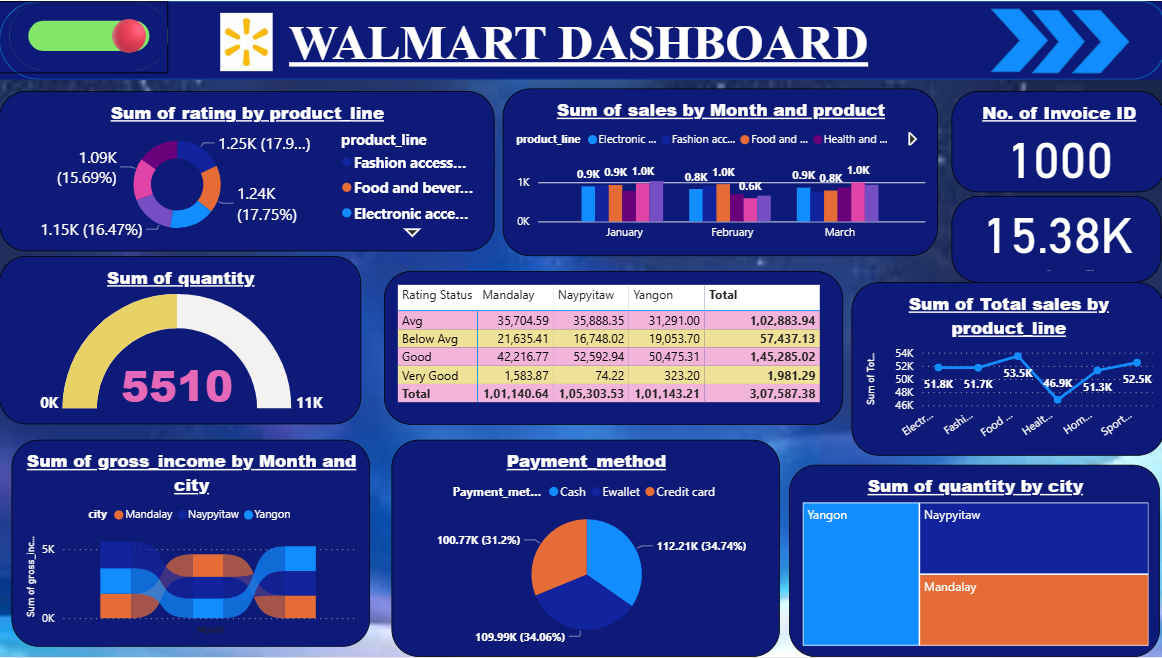

The page's visual inventory and layout, read from the dashboard file:
{"tool":"powerbi","page":{"name":"Page 1","canvas":[1280,720],"ordinal":0},"visuals":[{"type":"card","title":"No. of Invoice ID","fields":{"Values":["CountNonNull(WalmartSQL repository.invoice_id)"]},"box":[1045,98.8,235,111.2],"z":0},{"type":"card","fields":{"Values":["WalmartSQL repository.total profit"]},"box":[1045,213.8,230,95],"z":1000},{"type":"shape","box":[0,0,1280,86.2],"z":2000},{"type":"pieChart","title":"Payment_method","fields":{"Category":["WalmartSQL repository.payment_method"],"Y":["Sum(WalmartSQL repository.total)"]},"box":[431.2,481.2,426.2,238.8],"z":3000},{"type":"donutChart","fields":{"Y":["Sum(WalmartSQL repository.rating)"],"Category":["WalmartSQL repository.product_line"]},"box":[0,98.8,543.8,176.2],"z":4000},{"type":"pivotTable","fields":{"Rows":["WalmartSQL repository.Rating Status"],"Columns":["WalmartSQL repository.city"],"Values":["Sum(WalmartSQL repository.Total sales)"]},"box":[422.5,296.2,503.8,168.8],"z":5000},{"type":"gauge","fields":{"Y":["Sum(WalmartSQL repository.quantity)"]},"box":[0,280,397.5,185],"z":6000},{"type":"lineChart","fields":{"Category":["WalmartSQL repository.product_line"],"Y":["Sum(WalmartSQL repository.Total sales)"]},"box":[936.2,308.8,343.8,190],"z":7000},{"type":"bookmarkNavigator","box":[0,0,185.7,79.6],"z":8000},{"type":"image","box":[166,8.2,211.3,74.1],"z":9000},{"type":"clusteredColumnChart","title":"Sum of sales by Month and product","fields":{"Category":["WalmartSQL repository.dtme.Variation.Date Hierarchy.Month"],"Y":["Sum(WalmartSQL repository.gross_income)"],"Series":["WalmartSQL repository.product_line"]},"box":[552.5,96.2,477.5,183.8],"z":10000},{"type":"treemap","fields":{"Group":["WalmartSQL repository.city"],"Values":["Sum(WalmartSQL repository.quantity)"]},"box":[867.5,508.8,407.5,211.2],"z":11000},{"type":"ribbonChart","fields":{"Y":["Sum(WalmartSQL repository.gross_income)"],"Category":["WalmartSQL repository.dtme.Variation.Date Hierarchy.Month"],"Series":["WalmartSQL repository.city"]},"box":[13.8,481.2,393.8,227.5],"z":12000},{"type":"shape","box":[1087.5,8.8,63.8,70],"z":13000},{"type":"shape","box":[1133.8,10,58.8,70],"z":14000},{"type":"shape","box":[1177.5,10,63.8,70],"z":15000}]}

Visuals, with their boxes in screenshot pixels (x1, y1, x2, y2), scaled from the page's 1280x720 canvas onto the 1162x658 screenshot:
"No. of Invoice ID" card: bbox=[949, 90, 1161, 192]
card - WalmartSQL repository.total profit: bbox=[949, 195, 1157, 282]
shape: bbox=[0, 0, 1161, 79]
"Payment_method" pieChart: bbox=[391, 440, 778, 657]
donutChart - Sum(WalmartSQL repository.rating) x WalmartSQL repository.product_line: bbox=[0, 90, 494, 251]
pivotTable - WalmartSQL repository.Rating Status x WalmartSQL repository.city: bbox=[384, 271, 841, 425]
gauge - Sum(WalmartSQL repository.quantity): bbox=[0, 256, 361, 425]
lineChart - WalmartSQL repository.product_line x Sum(WalmartSQL repository.Total sales): bbox=[850, 282, 1161, 456]
bookmarkNavigator: bbox=[0, 0, 169, 73]
image: bbox=[151, 7, 343, 75]
"Sum of sales by Month and product" clusteredColumnChart: bbox=[502, 88, 935, 256]
treemap - WalmartSQL repository.city x Sum(WalmartSQL repository.quantity): bbox=[788, 465, 1157, 657]
ribbonChart - Sum(WalmartSQL repository.gross_income) x WalmartSQL repository.dtme.Variation.Date Hierarchy.Month: bbox=[13, 440, 370, 648]
shape: bbox=[987, 8, 1045, 72]
shape: bbox=[1029, 9, 1083, 73]
shape: bbox=[1069, 9, 1127, 73]
